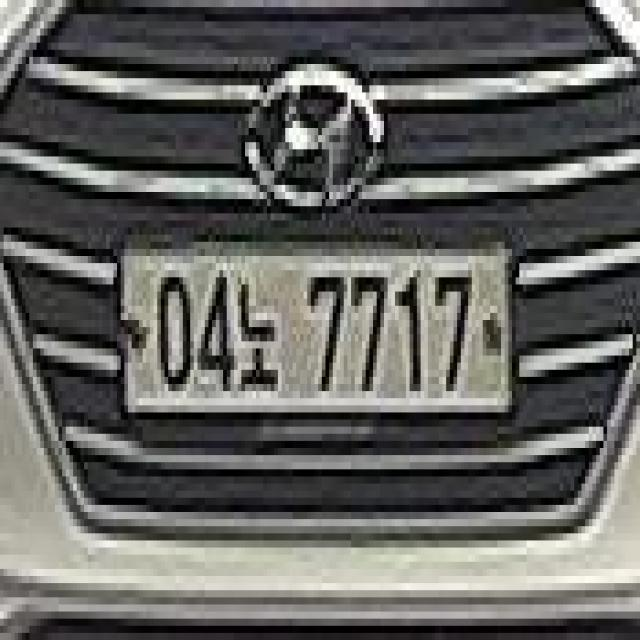illegal_plate: (117, 227, 519, 436)
